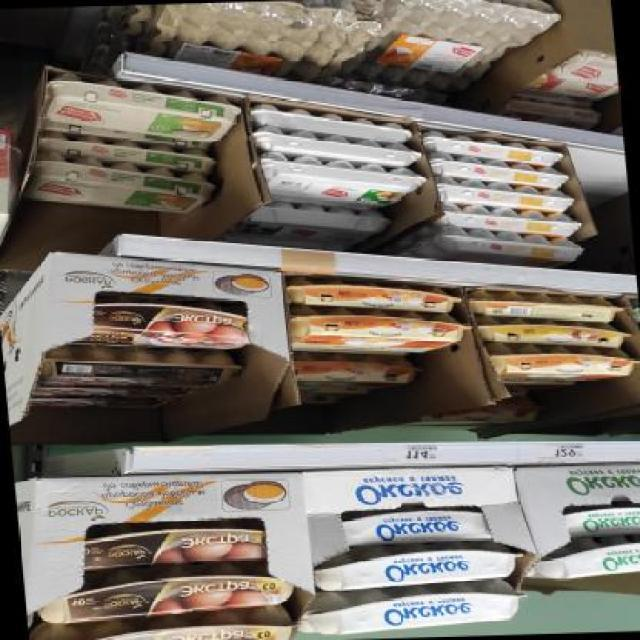egg: (29, 558, 296, 624), (45, 68, 244, 146), (21, 150, 219, 219), (56, 293, 264, 356), (297, 584, 531, 638), (310, 542, 526, 592), (77, 518, 266, 570), (27, 606, 301, 640), (290, 305, 472, 355), (287, 271, 459, 317), (491, 340, 634, 383), (478, 314, 633, 352), (335, 510, 490, 546), (522, 535, 640, 580), (291, 352, 424, 390), (566, 502, 640, 541)
